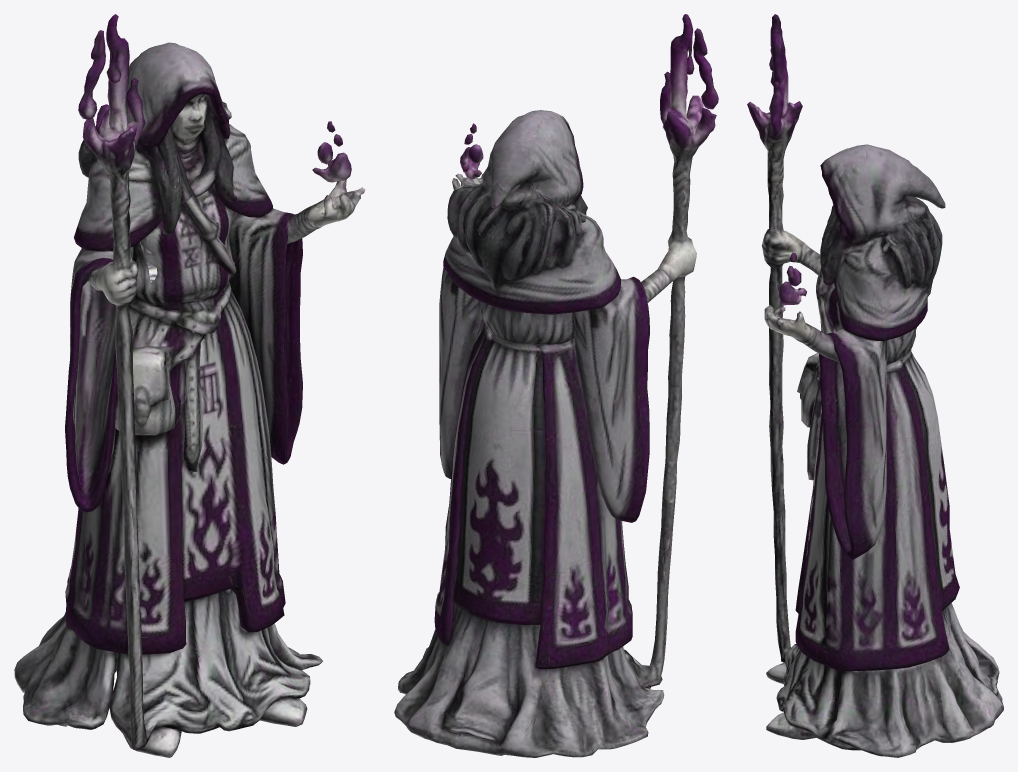
Rendered from Witch_Firewitch.glb.
3 renders of one model, left to right at view 1: azimuth 30°, elevation 25°; view 2: azimuth 150°, elevation 25°; view 3: azimuth 270°, elevation 25°, orthographic. The views are drawn at different scales.
Bounding box in the file's own units: 0.7593 × 1.89 × 0.685.
1 material, 1 textured.
